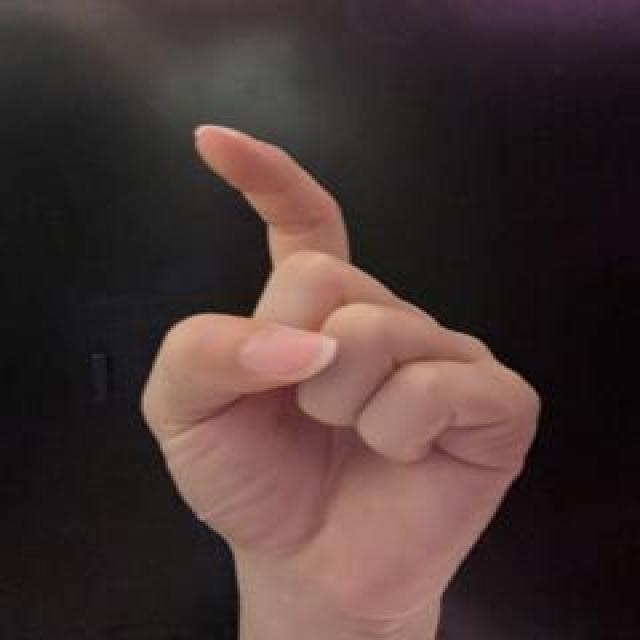X: (138, 118, 546, 640)
